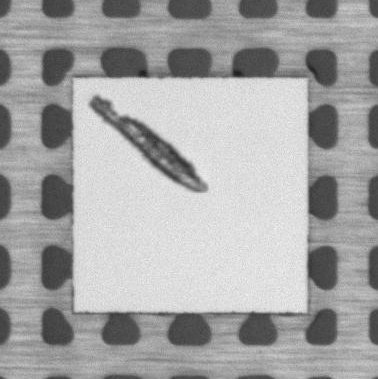DIE_INK: (80, 86, 213, 199)
